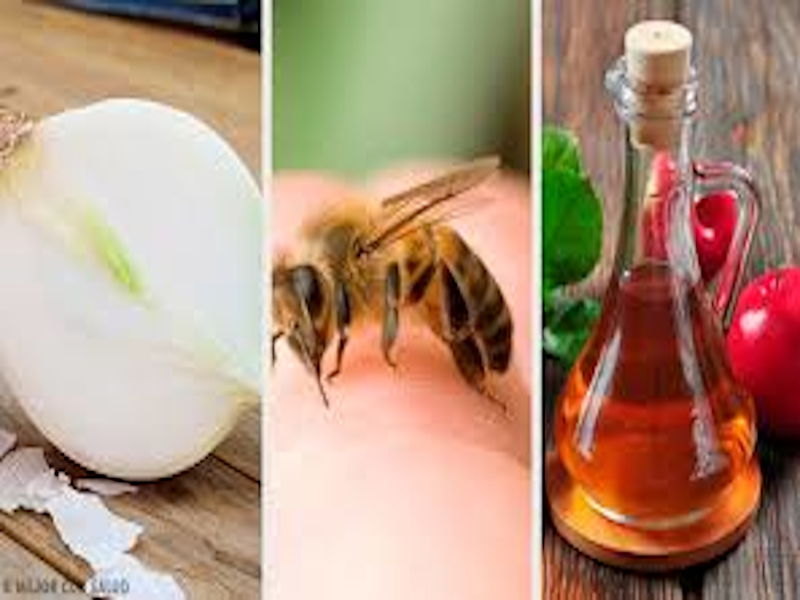abeja: (266, 146, 536, 426)
